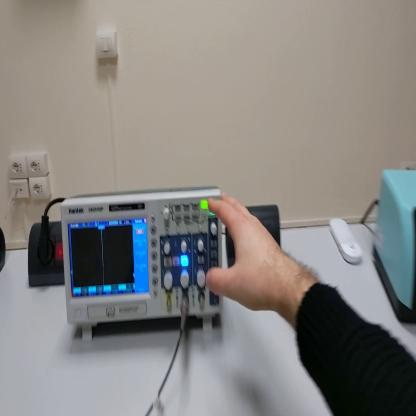hand: (204, 192, 283, 315)
oscilloscope: (63, 189, 226, 345)
socket: (29, 222, 64, 289), (1, 228, 7, 276)
welder station: (373, 170, 416, 322)
